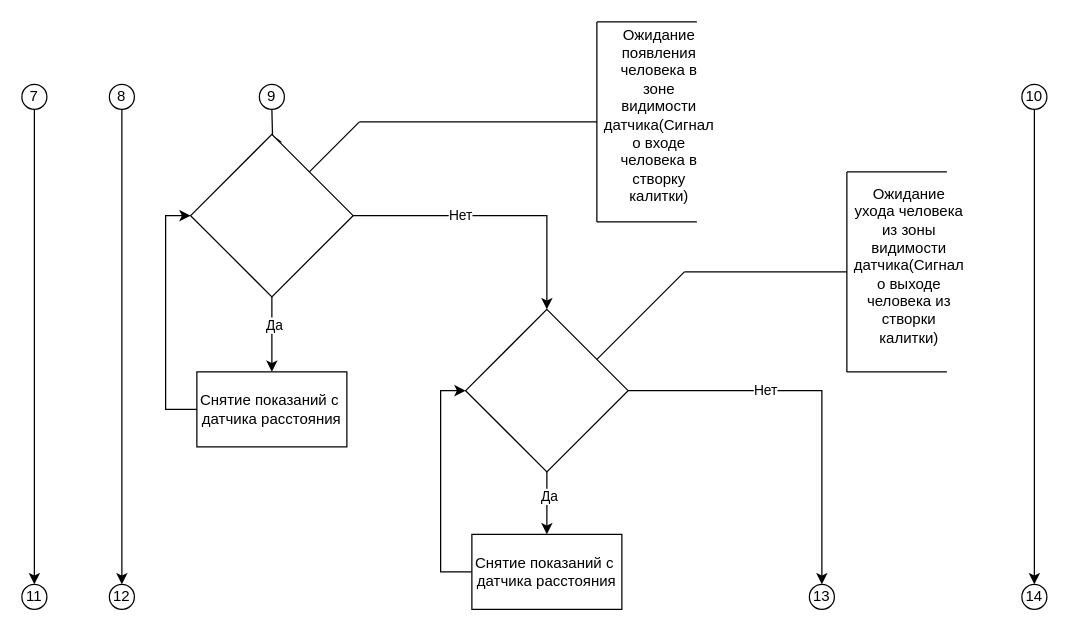
This 1069x631 diagram has some shape labels left out. The centre of each missing label's shape, as x and y in pixels:
"Расстояние<=25?" goes at point (546, 390).
"Расстояние>=25?" goes at point (271, 215).
